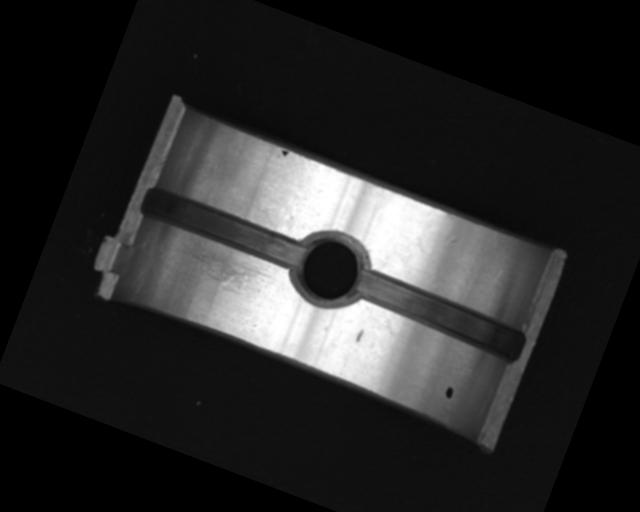blot: (443, 384, 455, 400), (278, 146, 289, 158)
bruise: (353, 327, 366, 345)
gap: (348, 265, 531, 366), (137, 182, 310, 275)
hole: (283, 220, 378, 319)
scratch: (168, 233, 281, 303)
